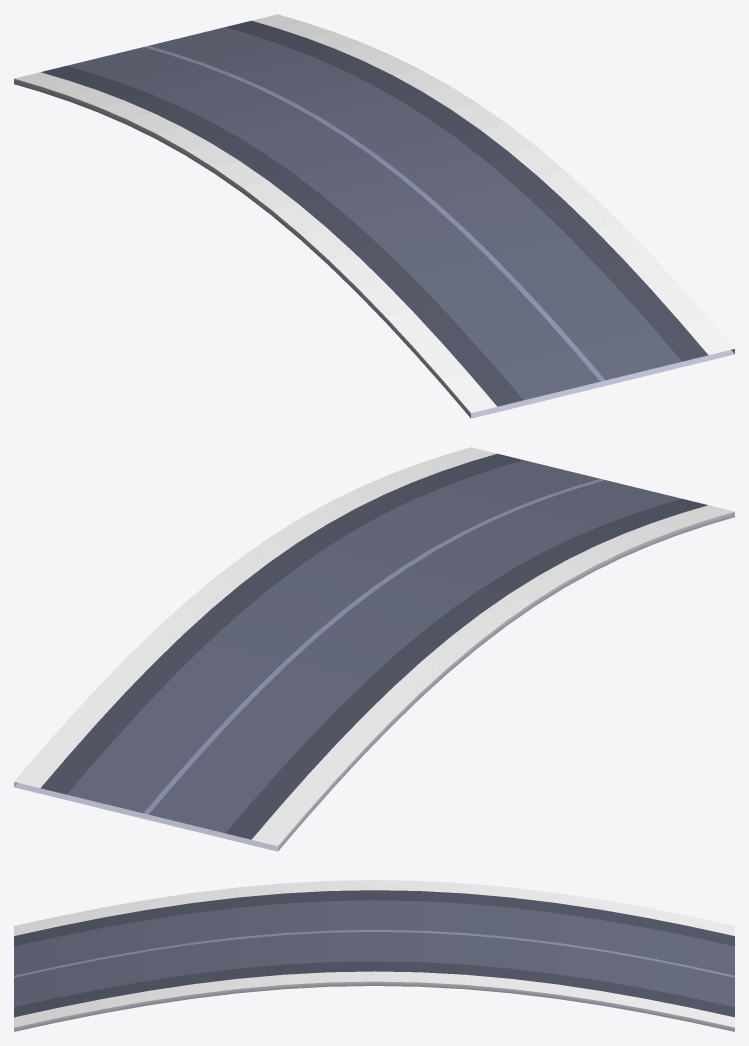
File: road-Straight-BiSlopeUp-BiSlopeDown-Even-Center-Size3.glb
The picture shows the model from 3 angles, top to bottom: view 1: azimuth 30°, elevation 25°; view 2: azimuth 150°, elevation 25°; view 3: azimuth 270°, elevation 25°; orthographic projection. The views are drawn at different scales.
Visible parts, largest first — view 1: road-Straight-BiSlopeUp-BiSlopeDown-Even-Center-Size3; view 2: road-Straight-BiSlopeUp-BiSlopeDown-Even-Center-Size3; view 3: road-Straight-BiSlopeUp-BiSlopeDown-Even-Center-Size3.
Boxes of the visible parts, <box> form: road-Straight-BiSlopeUp-BiSlopeDown-Even-Center-Size3: <box>14,14,734,418</box>; road-Straight-BiSlopeUp-BiSlopeDown-Even-Center-Size3: <box>14,447,734,851</box>; road-Straight-BiSlopeUp-BiSlopeDown-Even-Center-Size3: <box>14,880,734,1031</box>.
Bounding box in the file's own units: 1 × 0.2309 × 3.
1 material, 1 textured.
